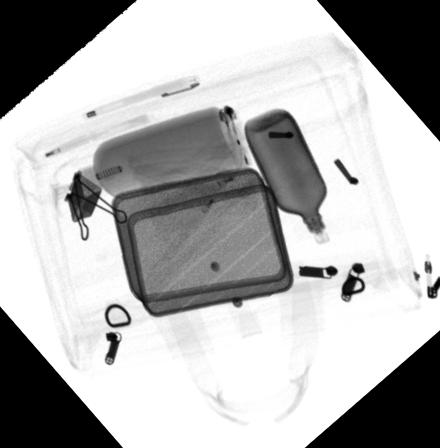Lighter: (218, 105, 256, 169)
